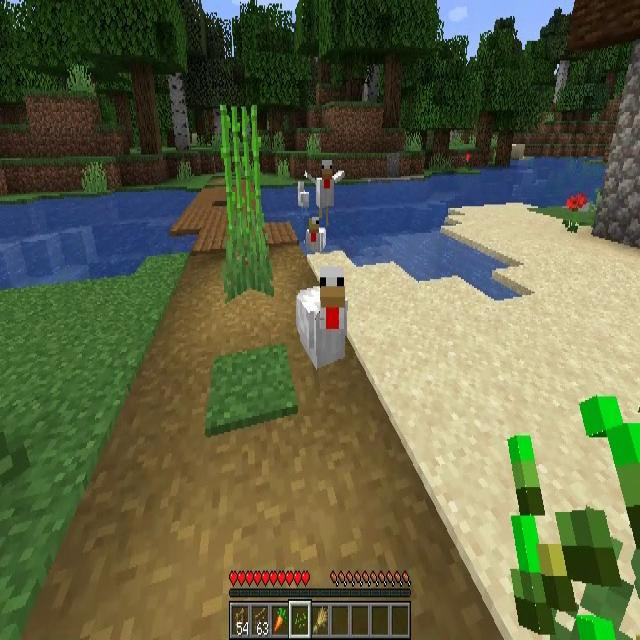duck: (295, 265, 348, 369), (304, 159, 344, 225), (305, 218, 326, 252), (296, 180, 310, 216)
